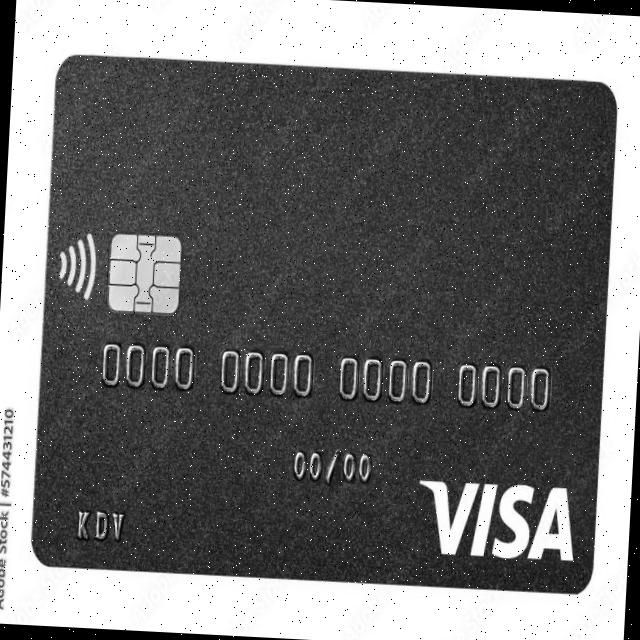card: (25, 53, 617, 594)
